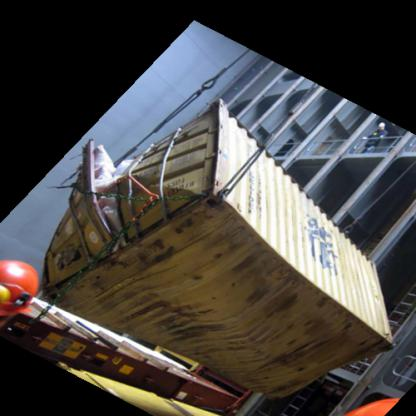Damage: (66, 128, 150, 260), (212, 221, 310, 310), (123, 280, 235, 346)
